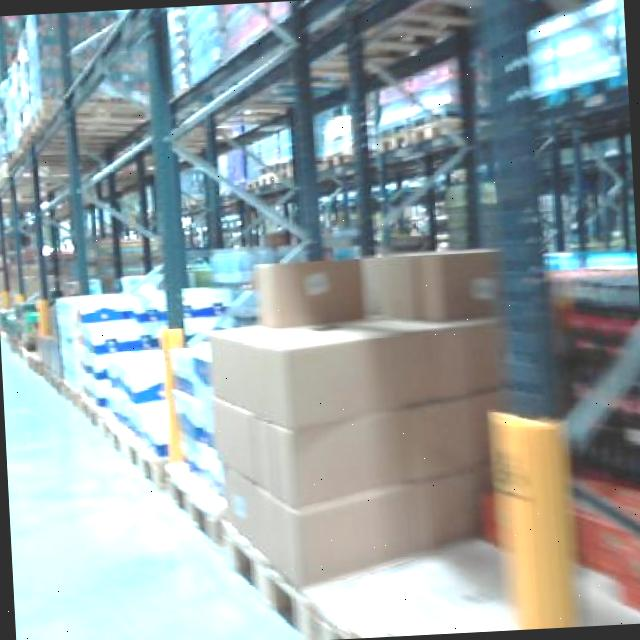pallet: (216, 510, 323, 640), (290, 544, 409, 640), (160, 454, 226, 550)
